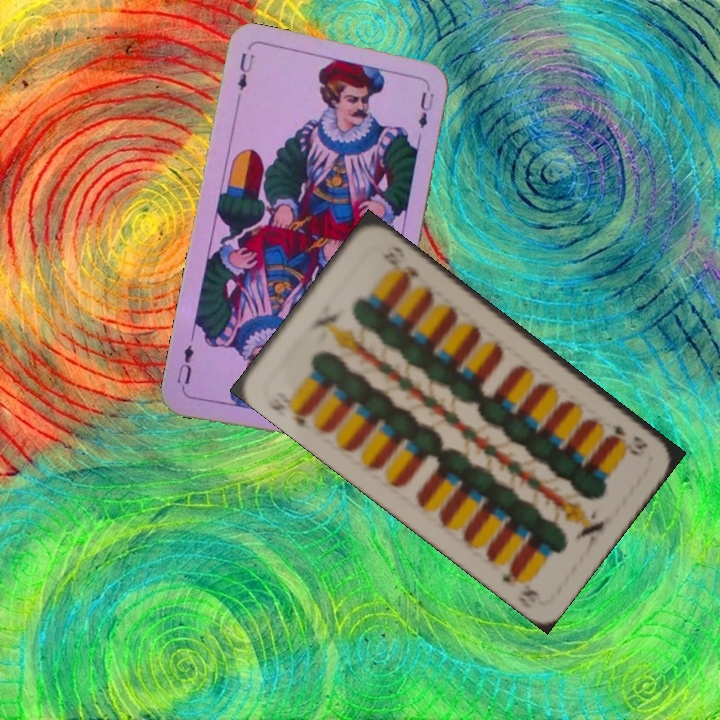E10: (261, 390, 316, 430), (602, 417, 651, 459)
EU: (233, 48, 257, 93)
